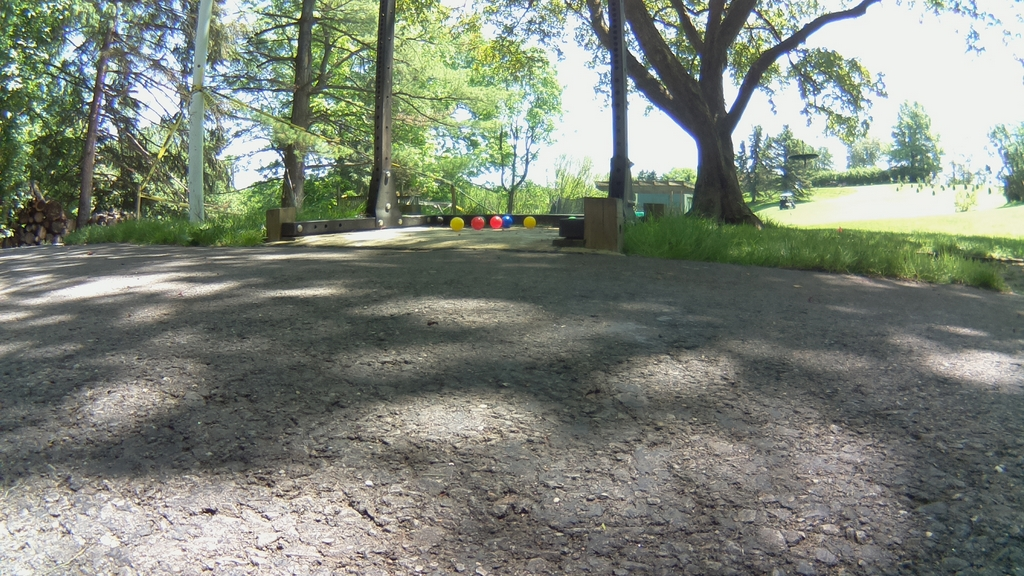ball: (492, 215, 502, 229)
